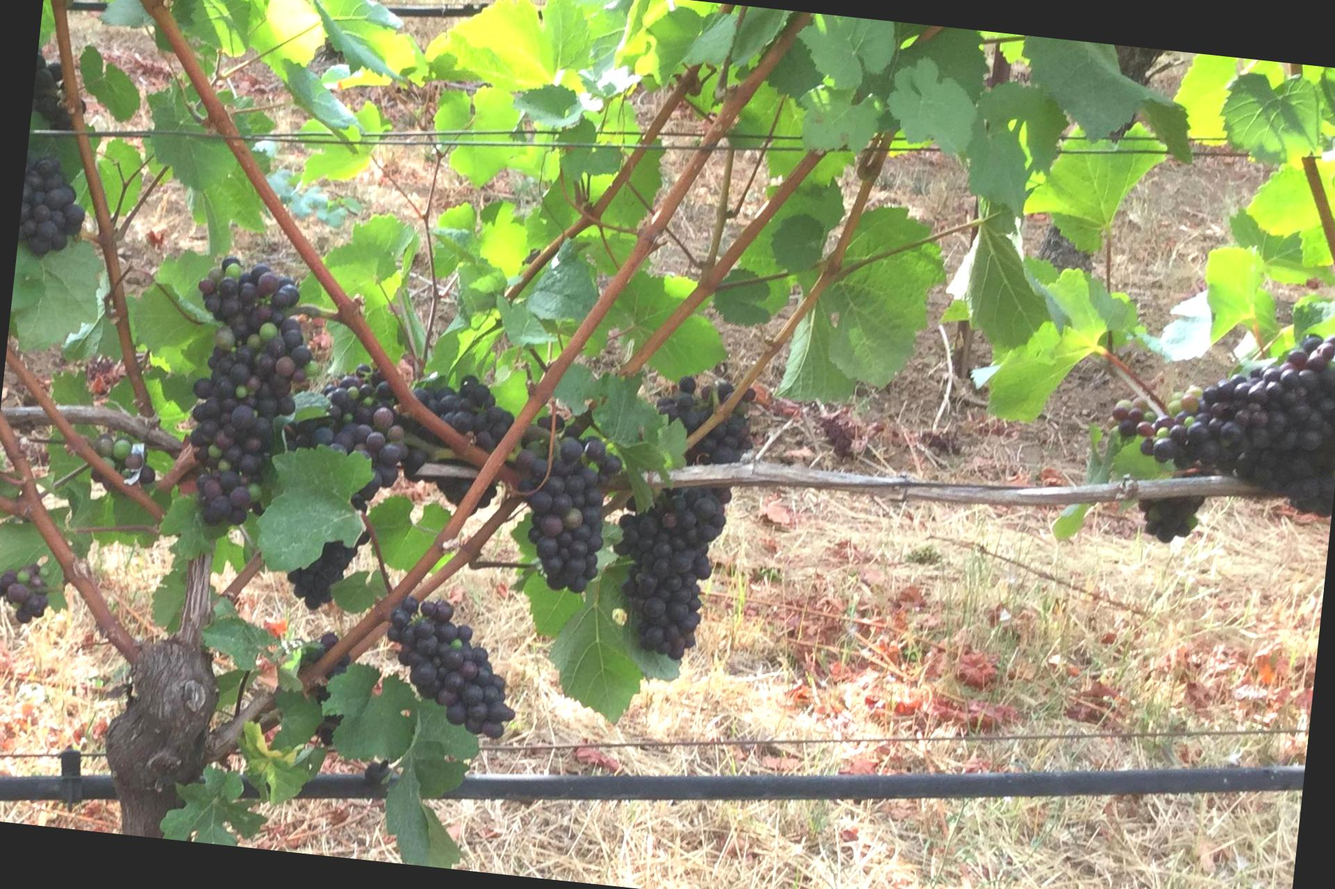Grape Ripe: (1078, 322, 1335, 547), (610, 375, 781, 687), (153, 252, 326, 547), (358, 580, 524, 734), (500, 416, 615, 616), (398, 347, 514, 524), (295, 364, 407, 500), (17, 165, 82, 256)
